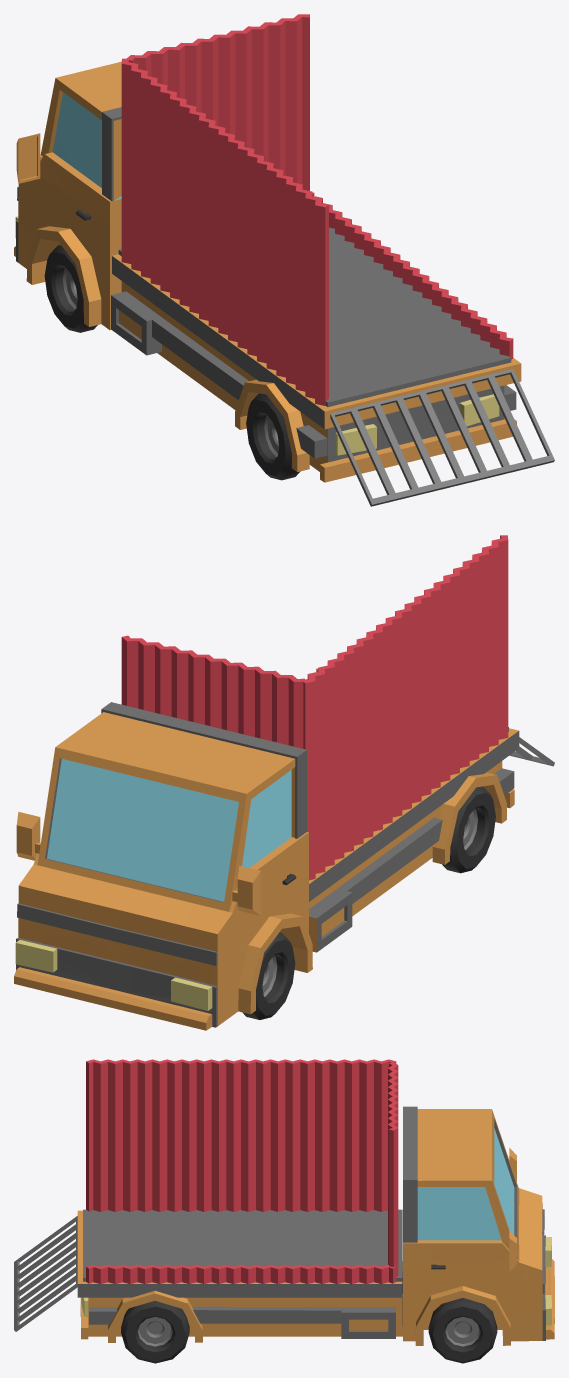
Rendered from TRUCK.fbx.
3 views of the same model, one above another, from view 1: azimuth 30°, elevation 25°; view 2: azimuth 150°, elevation 25°; view 3: azimuth 270°, elevation 25° (orthographic). The views are drawn at different scales.
Parts seen in each view (by area): view 1: Plane.122, truck_seperate, Plane.121, Plane.123, Plane.125, truck_fl_wheel, Plane.124, truck_seperate.001, truck_seperate.002; view 2: truck_seperate, Plane.122, Plane.123, truck_fl_wheel, truck_seperate.001, truck_seperate.002; view 3: Plane.122, truck_seperate, Plane.121, truck_fl_wheel, Plane.124, Plane.125, Plane.123, truck_seperate.001, truck_seperate.002.
Boxes of the visible parts, x1,y1,x2,y2 form: Plane.122: (121, 58, 328, 405); truck_seperate: (14, 61, 521, 482); Plane.121: (118, 227, 511, 406); Plane.123: (126, 14, 309, 190); Plane.125: (330, 369, 554, 506); truck_fl_wheel: (44, 245, 300, 480); Plane.124: (312, 192, 513, 359); truck_seperate.001: (26, 226, 101, 326); truck_seperate.002: (235, 379, 504, 471); truck_seperate: (14, 702, 519, 1030); Plane.122: (303, 535, 508, 880); Plane.123: (121, 635, 305, 748); truck_fl_wheel: (242, 786, 495, 1019); truck_seperate.001: (238, 913, 312, 1014); truck_seperate.002: (432, 772, 506, 864); Plane.122: (86, 1059, 396, 1211); truck_seperate: (77, 1106, 554, 1341); Plane.121: (83, 1209, 402, 1284); truck_fl_wheel: (121, 1298, 497, 1363); Plane.124: (86, 1264, 396, 1284); Plane.125: (14, 1216, 77, 1331); Plane.123: (388, 1062, 398, 1276); truck_seperate.001: (415, 1286, 510, 1345); truck_seperate.002: (108, 1290, 202, 1342).
Bounding box in the file's own units: 193 × 228 × 486.
